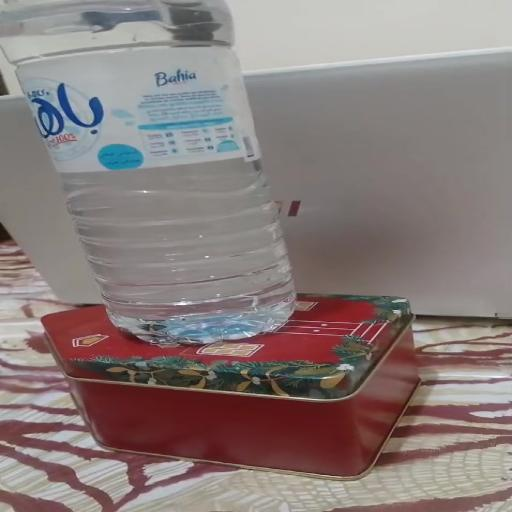bouteille conformite: (73, 22, 281, 337)
